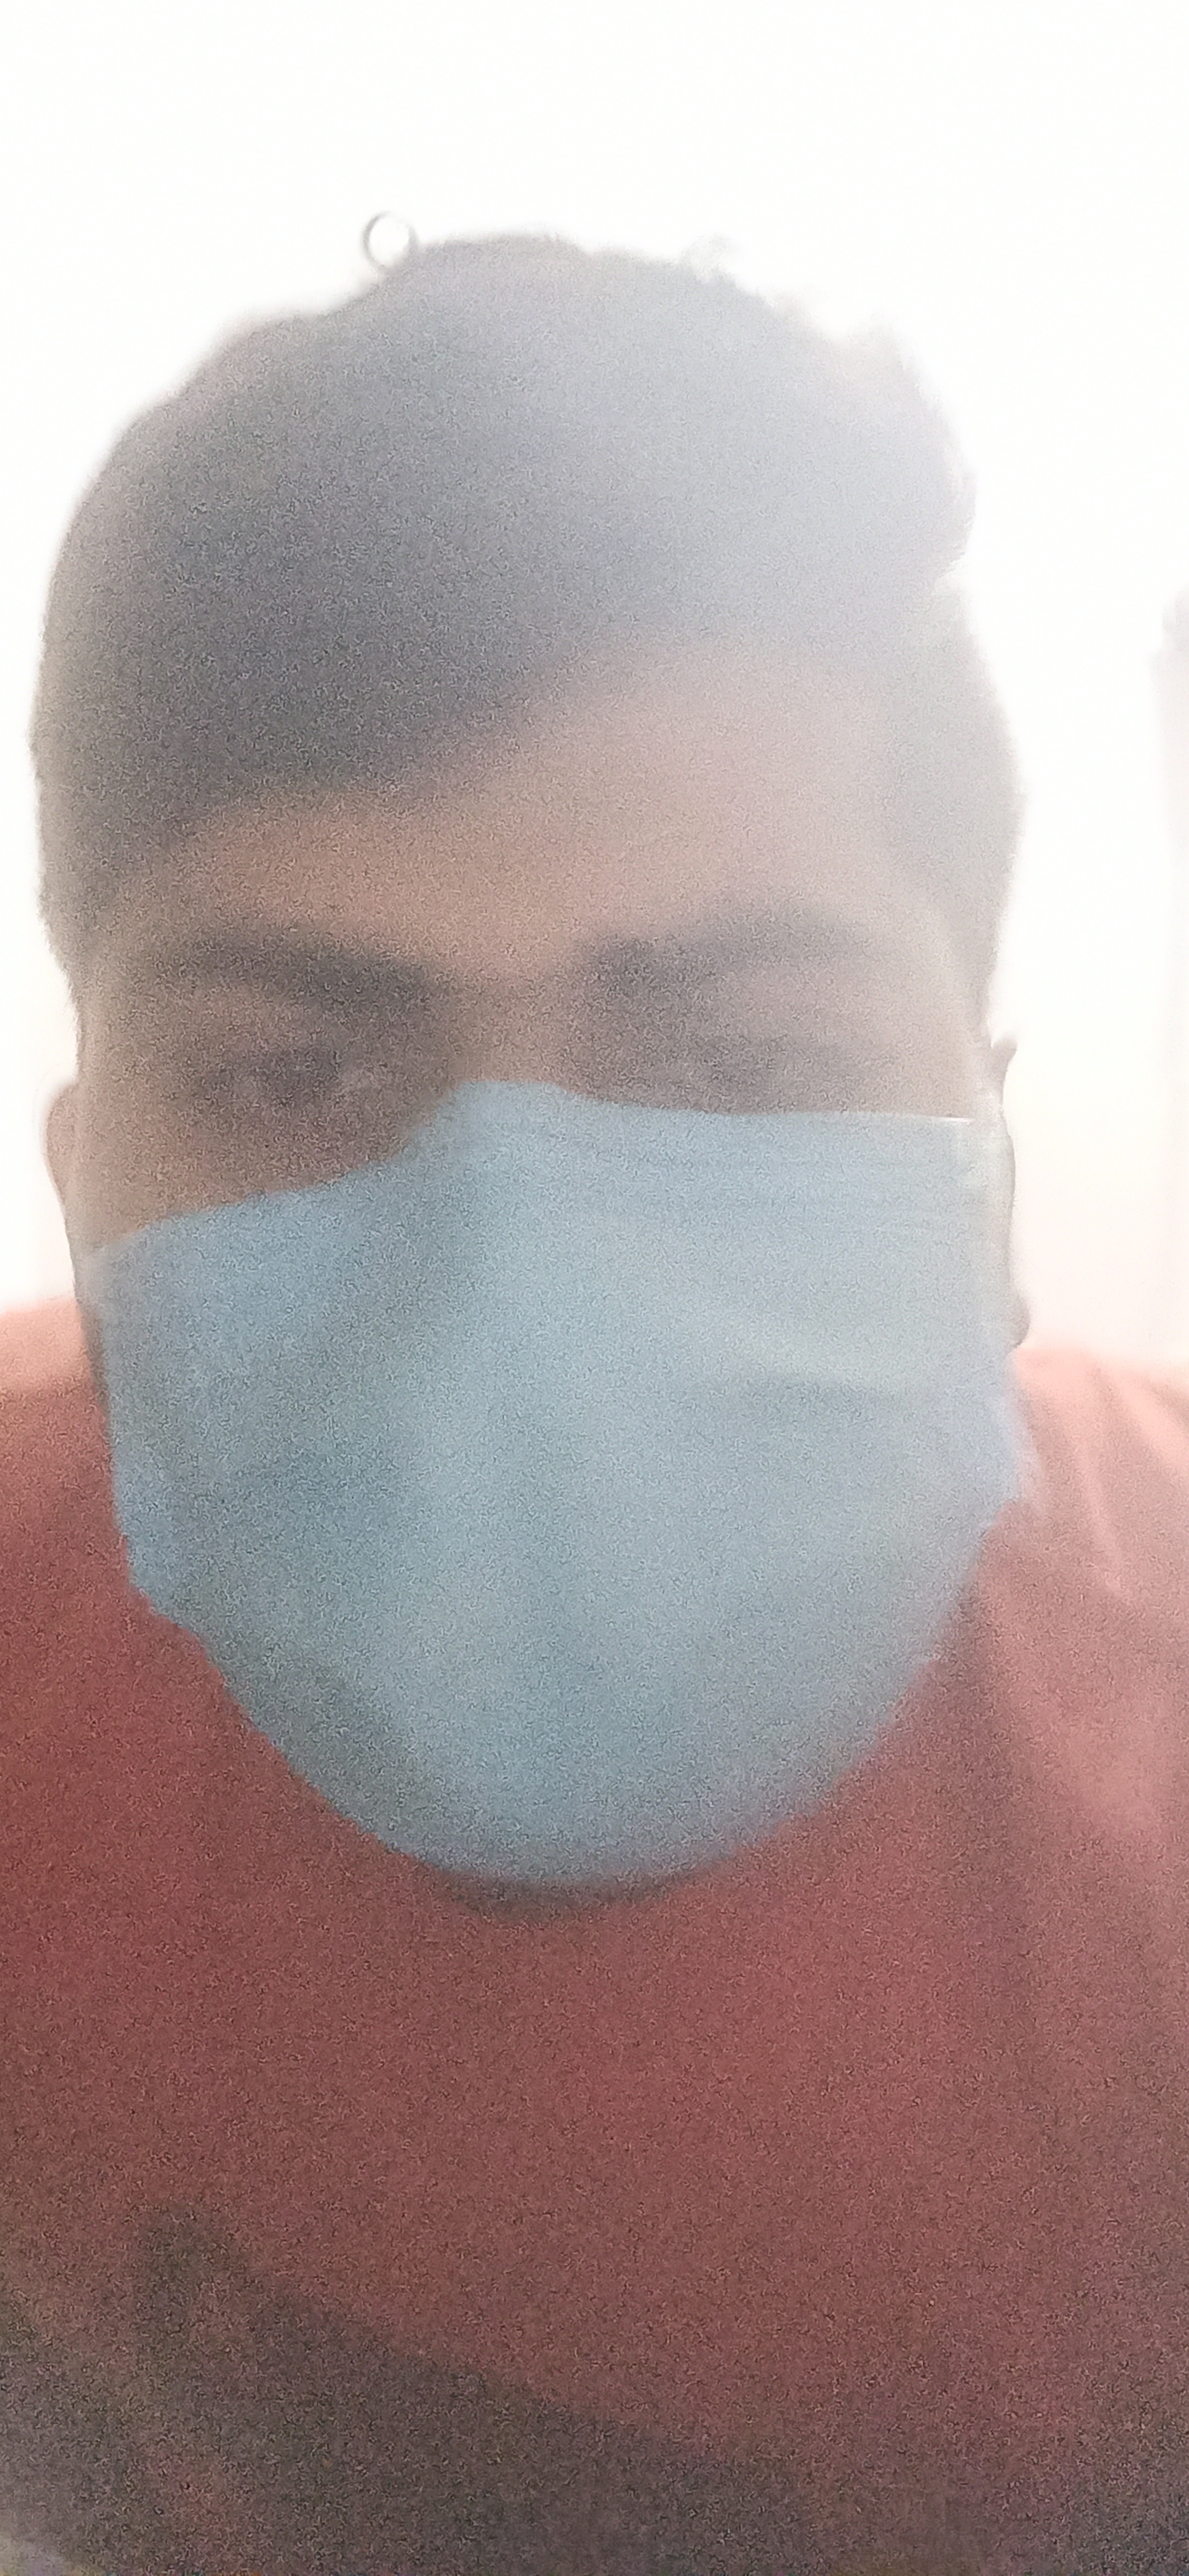Mask: (46, 1073, 1084, 1886)
